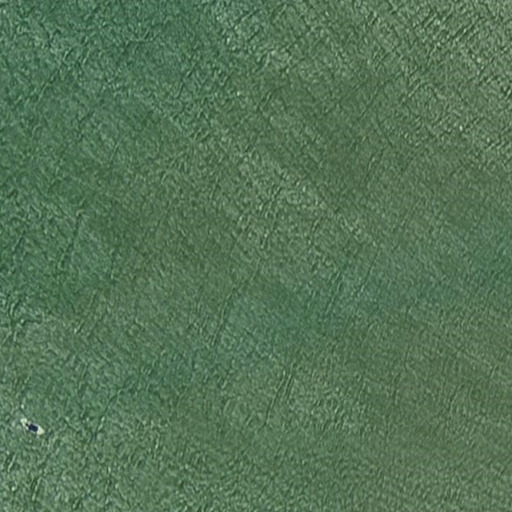ship: (16, 415, 46, 439)
